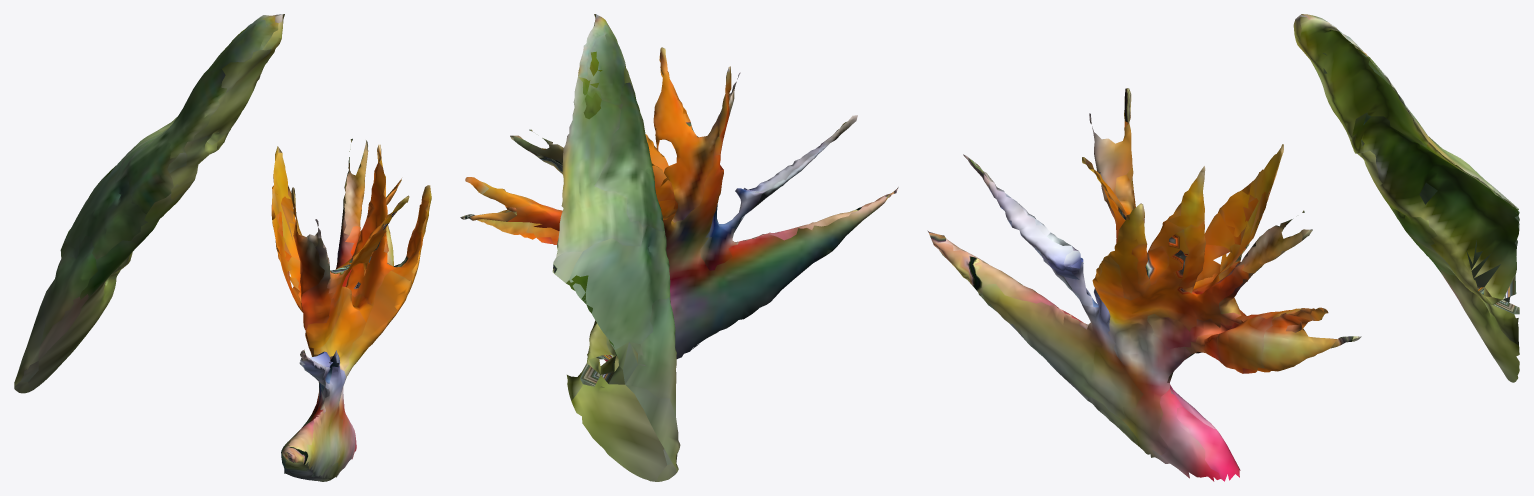
The picture shows the model from 3 angles, left to right: view 1: azimuth 30°, elevation 25°; view 2: azimuth 150°, elevation 25°; view 3: azimuth 270°, elevation 25°; orthographic projection. The views are drawn at different scales.
Parts seen in each view (by area): view 1: afe94ccf; view 2: afe94ccf; view 3: afe94ccf.
Boxes of the visible parts, <box> form: afe94ccf: <box>14,14,431,481</box>; afe94ccf: <box>460,14,898,481</box>; afe94ccf: <box>927,14,1519,481</box>.
Bounding box in the file's own units: 0.0613 × 0.0778 × 0.0922.
1 material, 1 textured.
